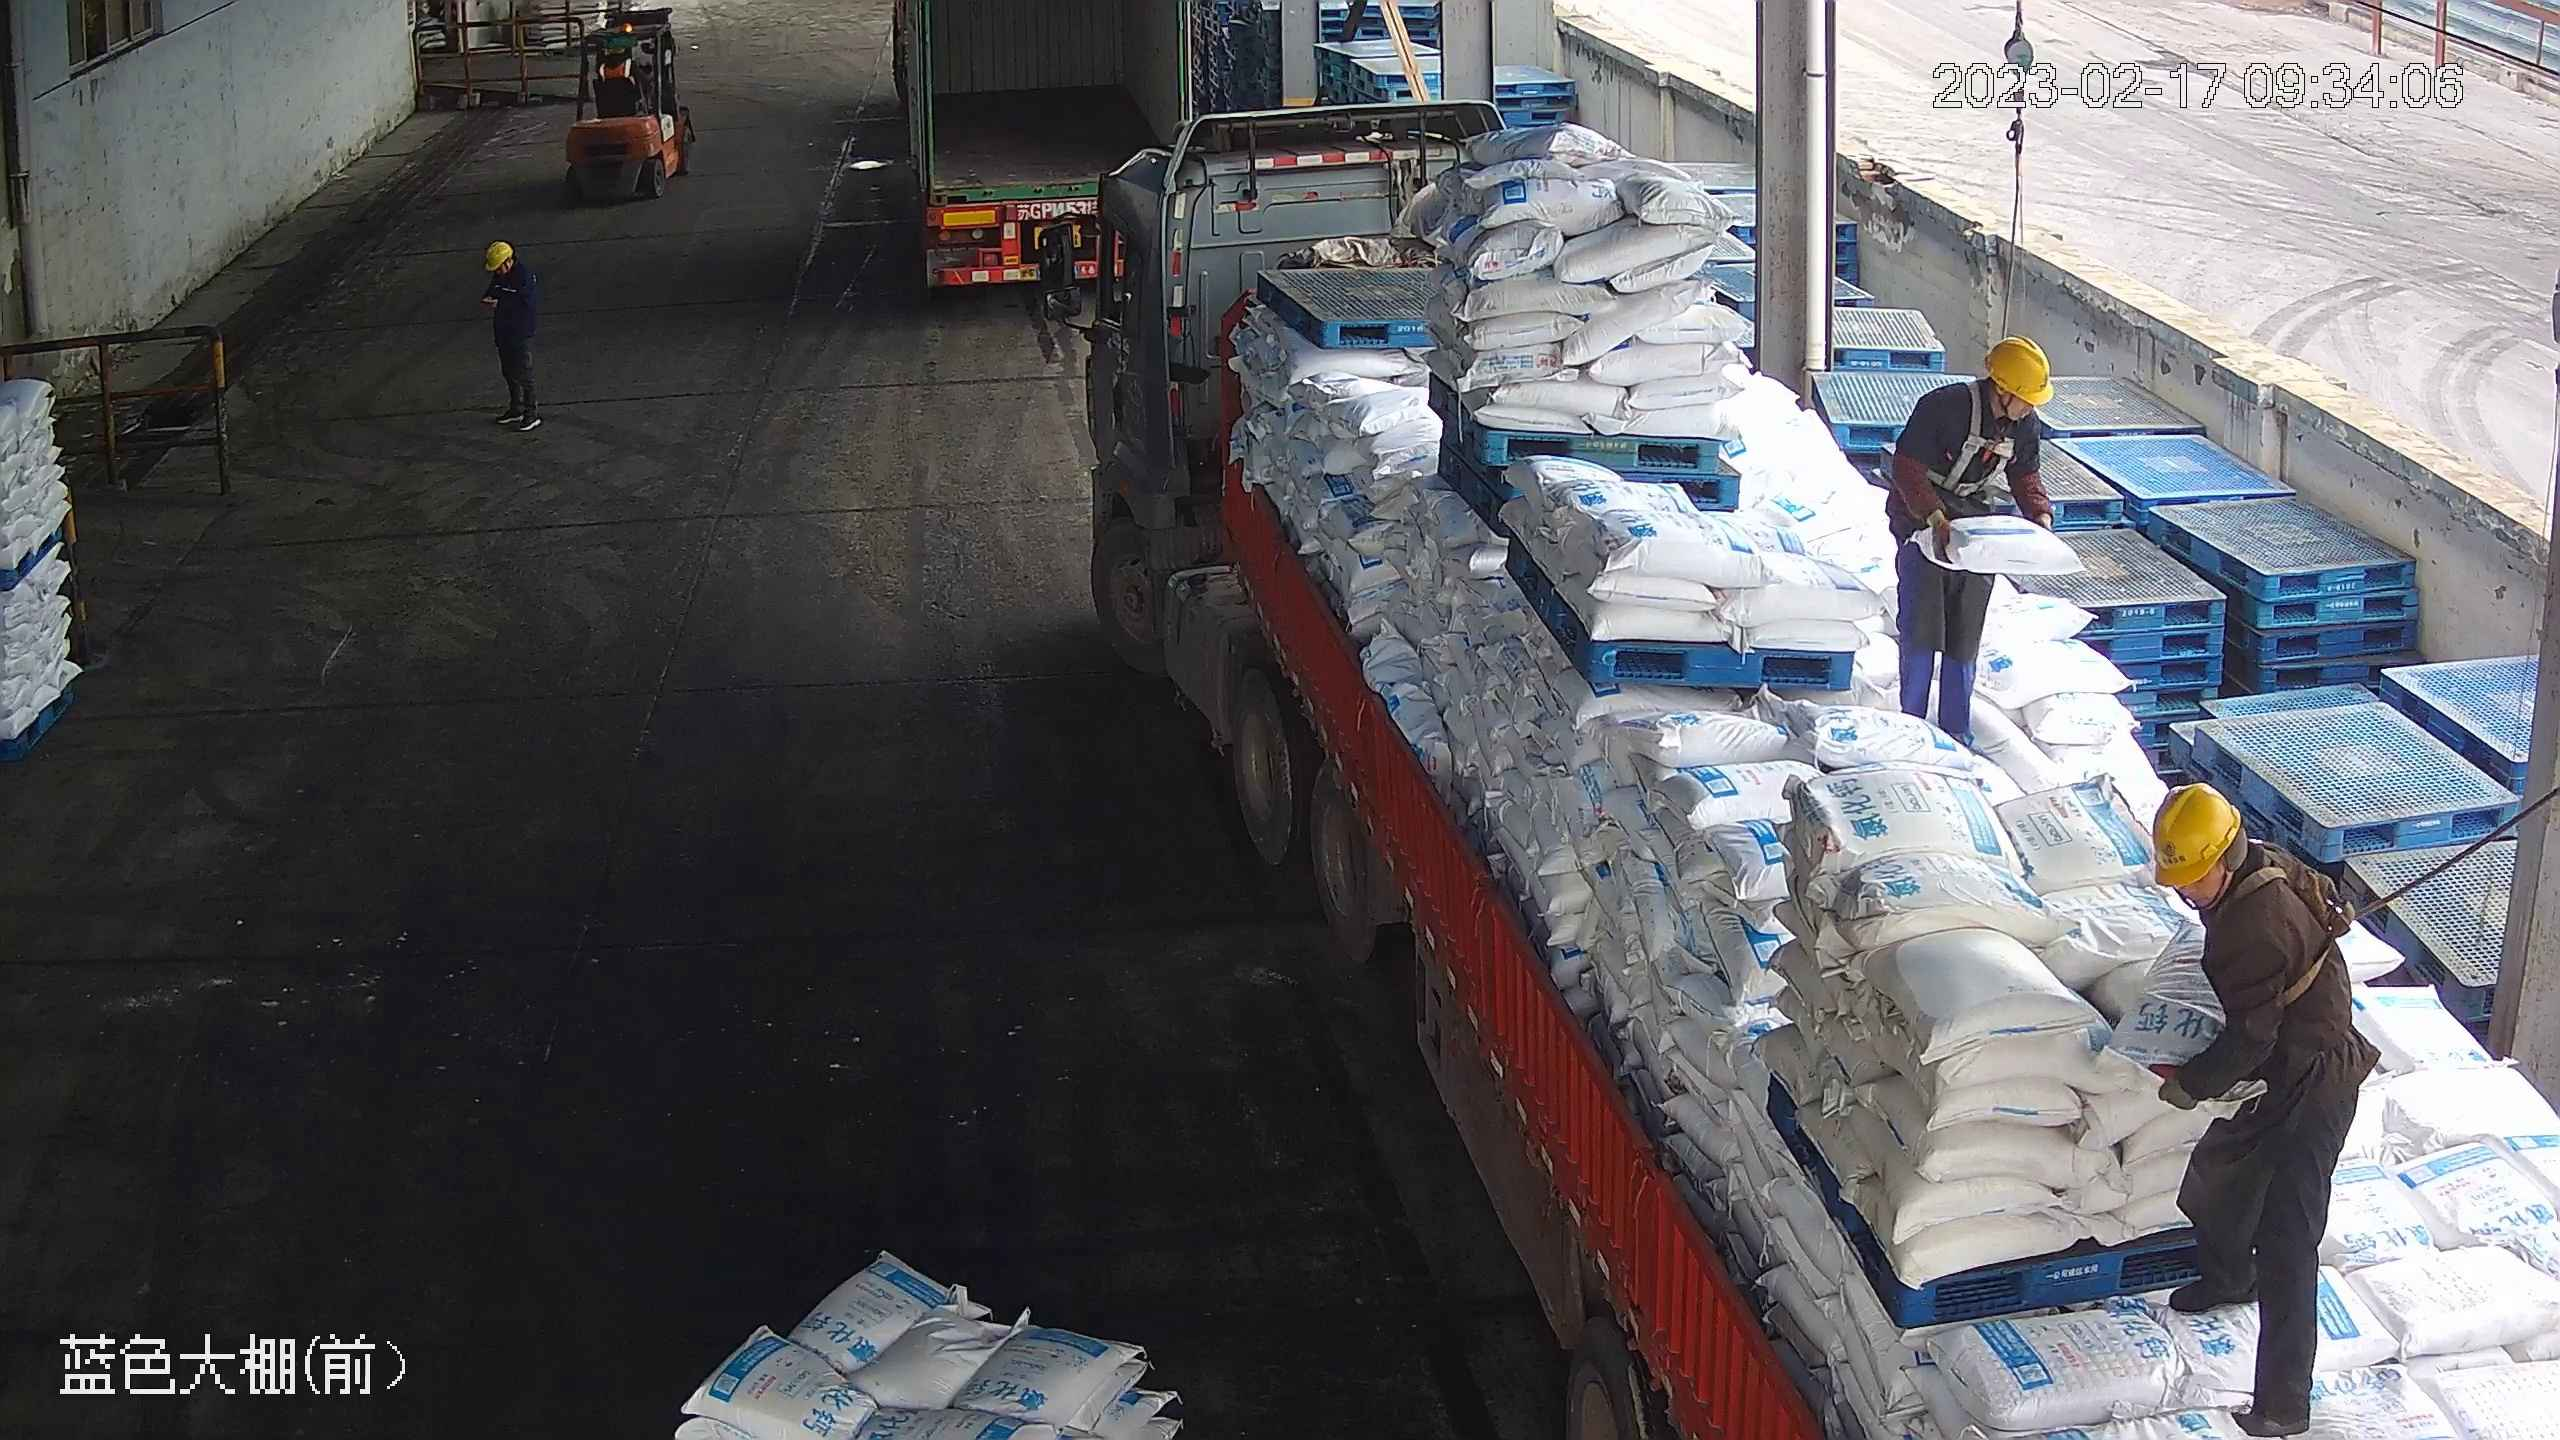belt: (2214, 849, 2361, 1009), (1944, 384, 2018, 486)
head: (2142, 782, 2337, 956), (1906, 334, 2052, 461), (481, 240, 531, 299)
helmet: (2147, 781, 2244, 884), (1982, 334, 2054, 407), (483, 240, 512, 267)
people: (2130, 779, 2378, 1436), (1882, 330, 2055, 748), (478, 237, 546, 438)
truck: (1043, 101, 2551, 1439), (885, 1, 1195, 295)
